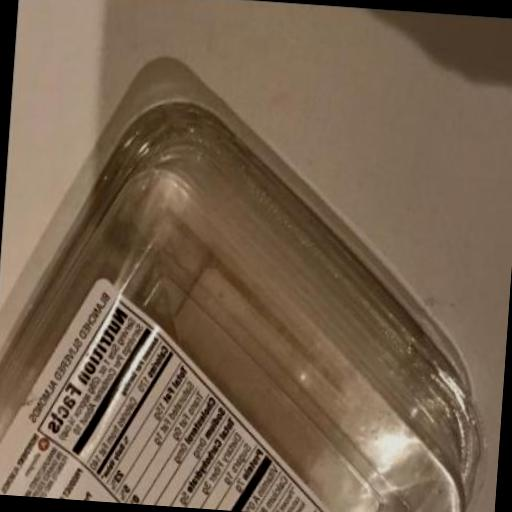plastic: (0, 85, 507, 512)
